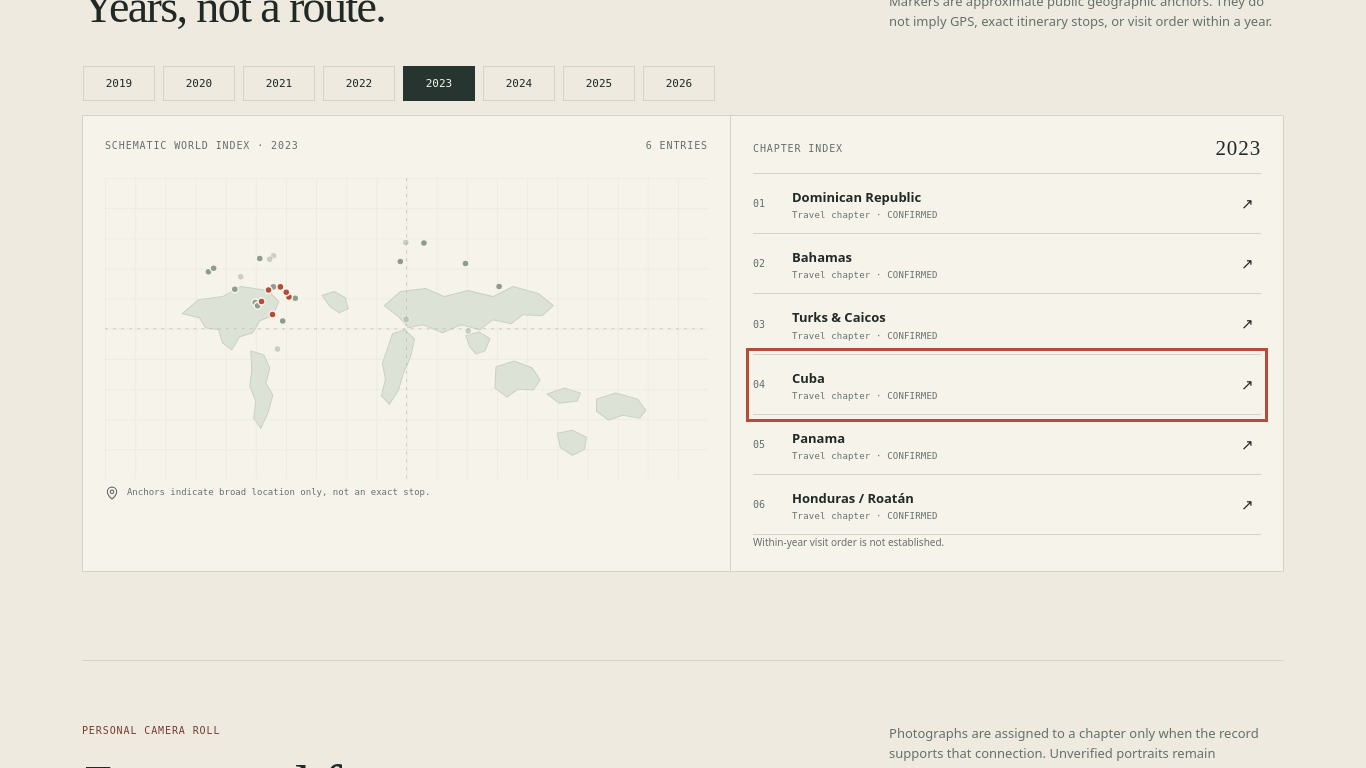
Test: nested photo dialog restores thumbnail focus, then original chapter opener
(page scrolled)
Click the button with test id "v3-chapter-row-cuba-2023": {"x": 808, "y": 378} [753,355,1261,415]
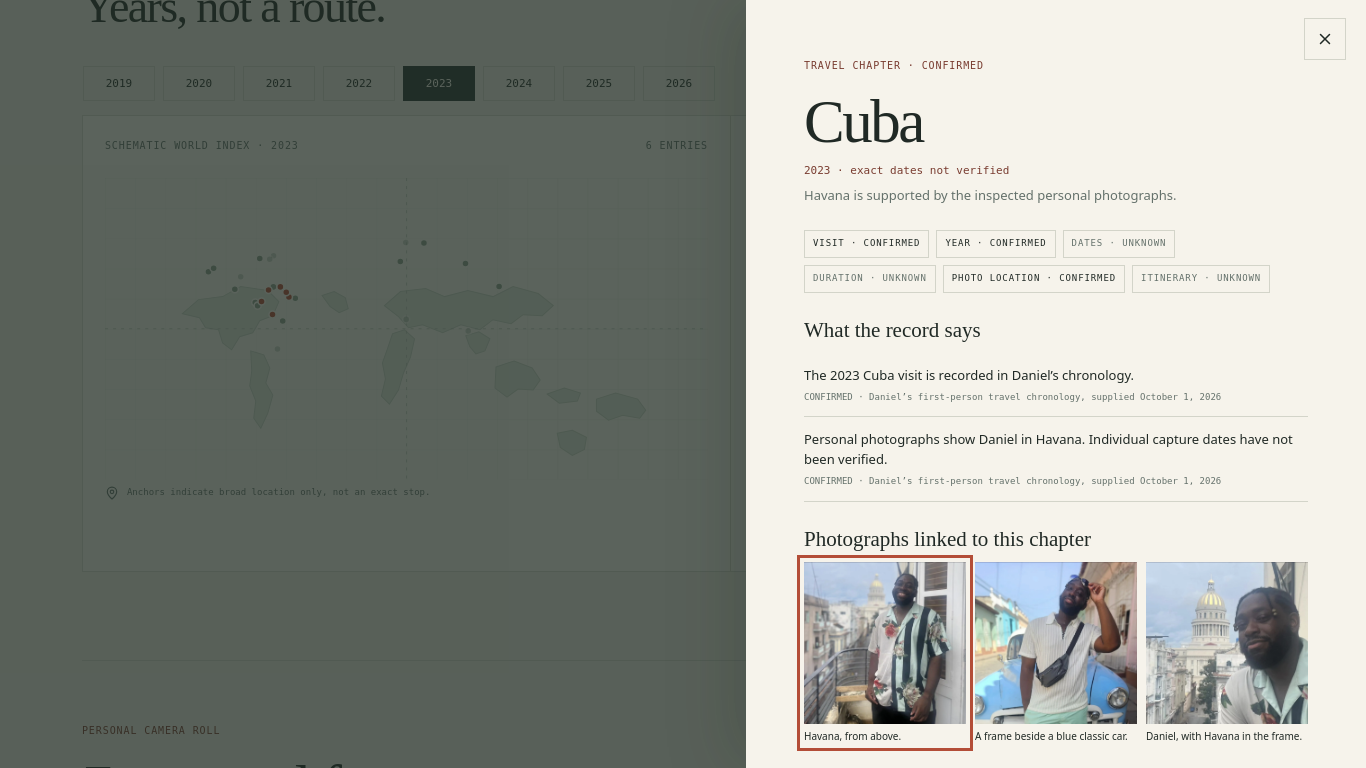
Click the button with test id "v3-linked-photo-cuba-2023-0": {"x": 885, "y": 653} [804,562,966,744]
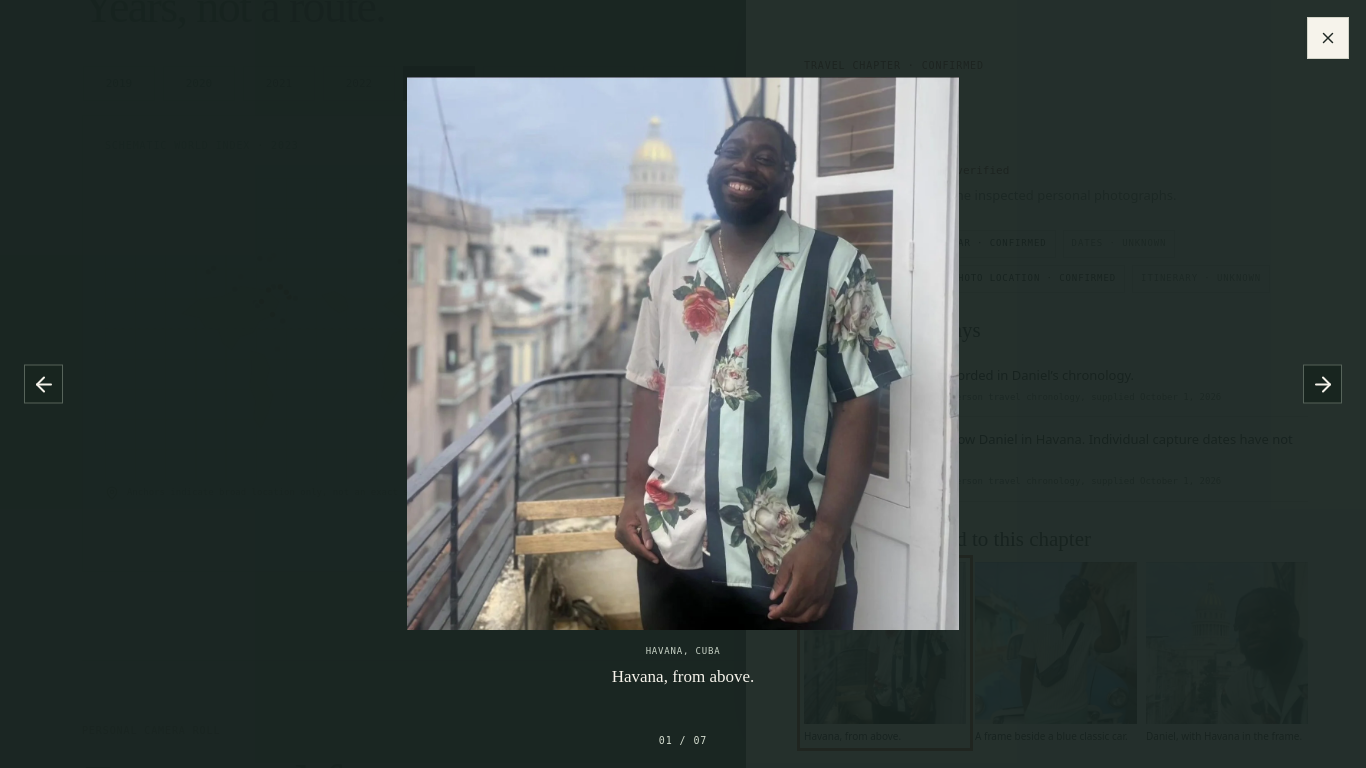
Expected: the element with test id "v3-chapter-overlay" has attribute inert
Click the button with test id "v3-photo-next": {"x": 1322, "y": 384} [1303,364,1342,404]
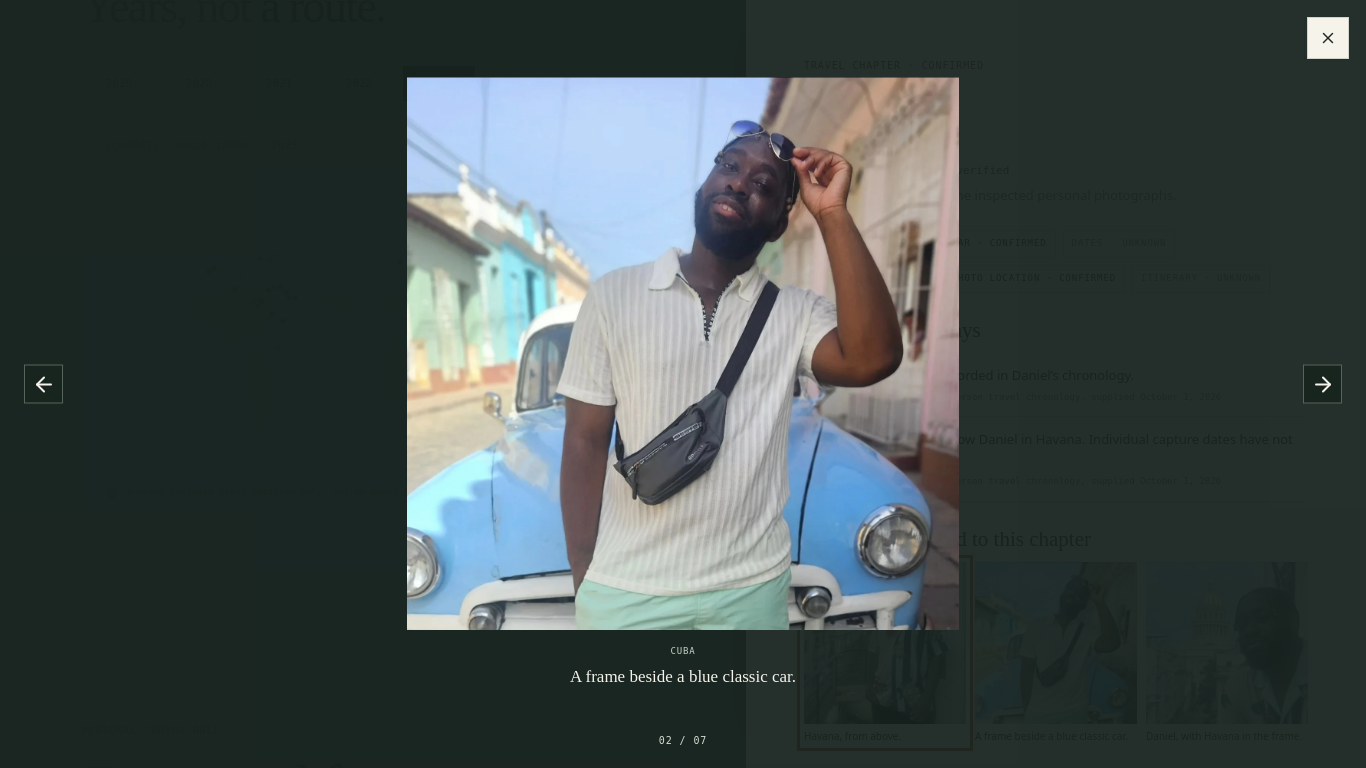
Press ArrowLeft
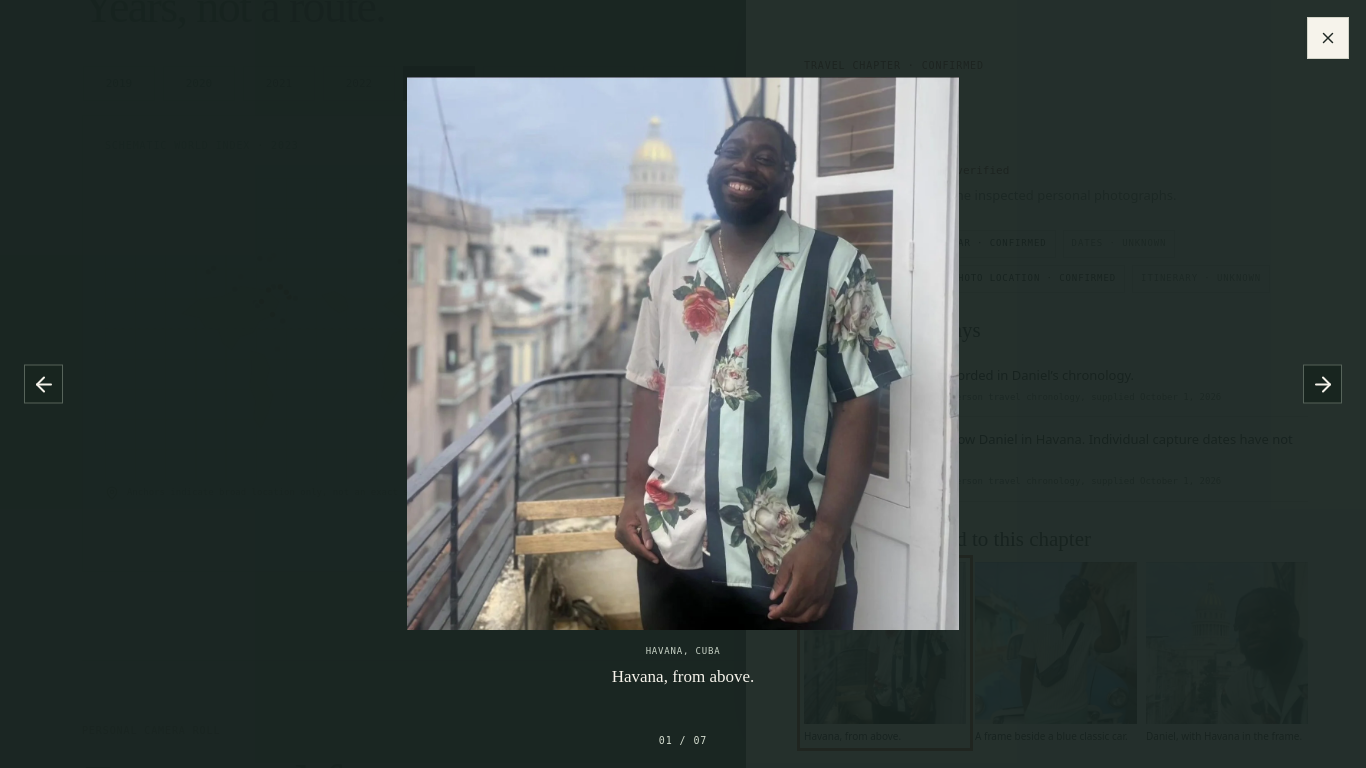
Press Escape
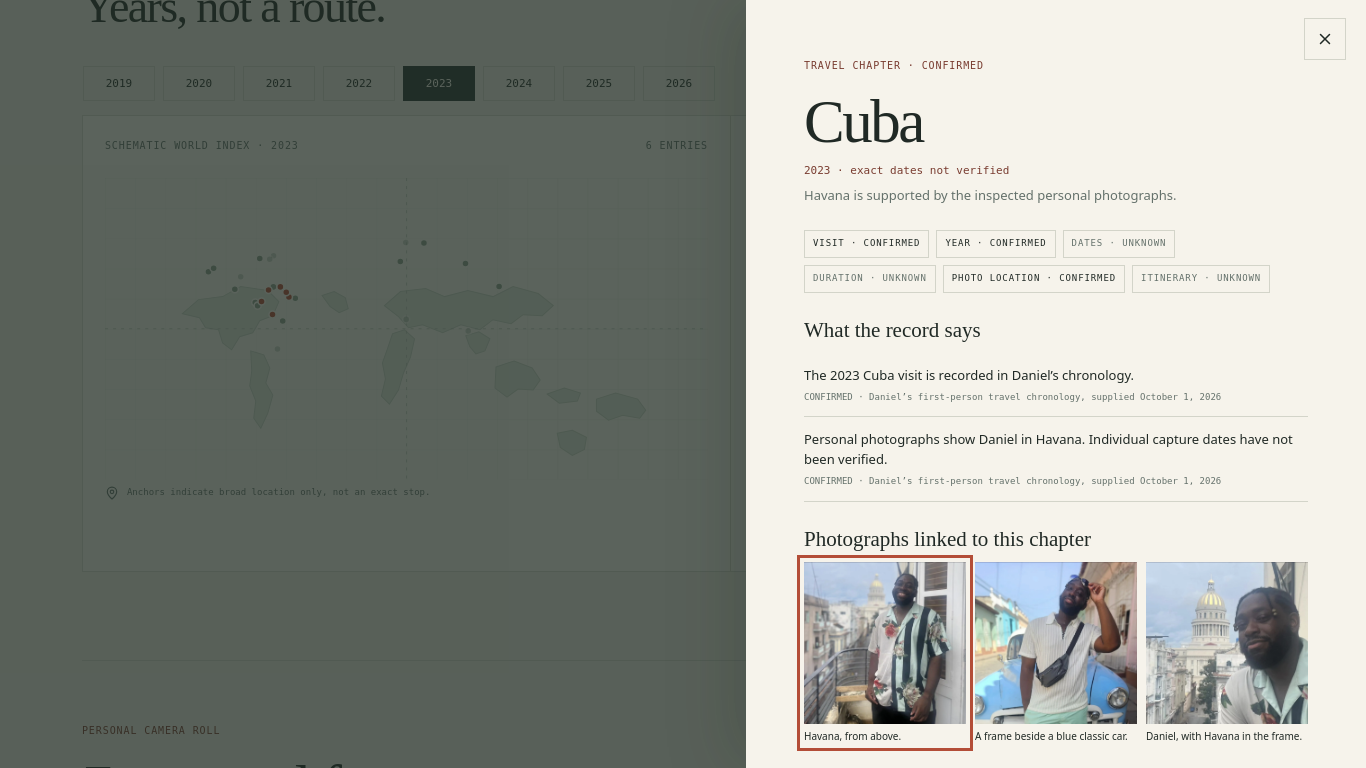
Expected: the dialog shows "Cuba", [804,88,923,154]
Expected: the dialog with test id "v3-photo-viewer" is gone
Press Escape
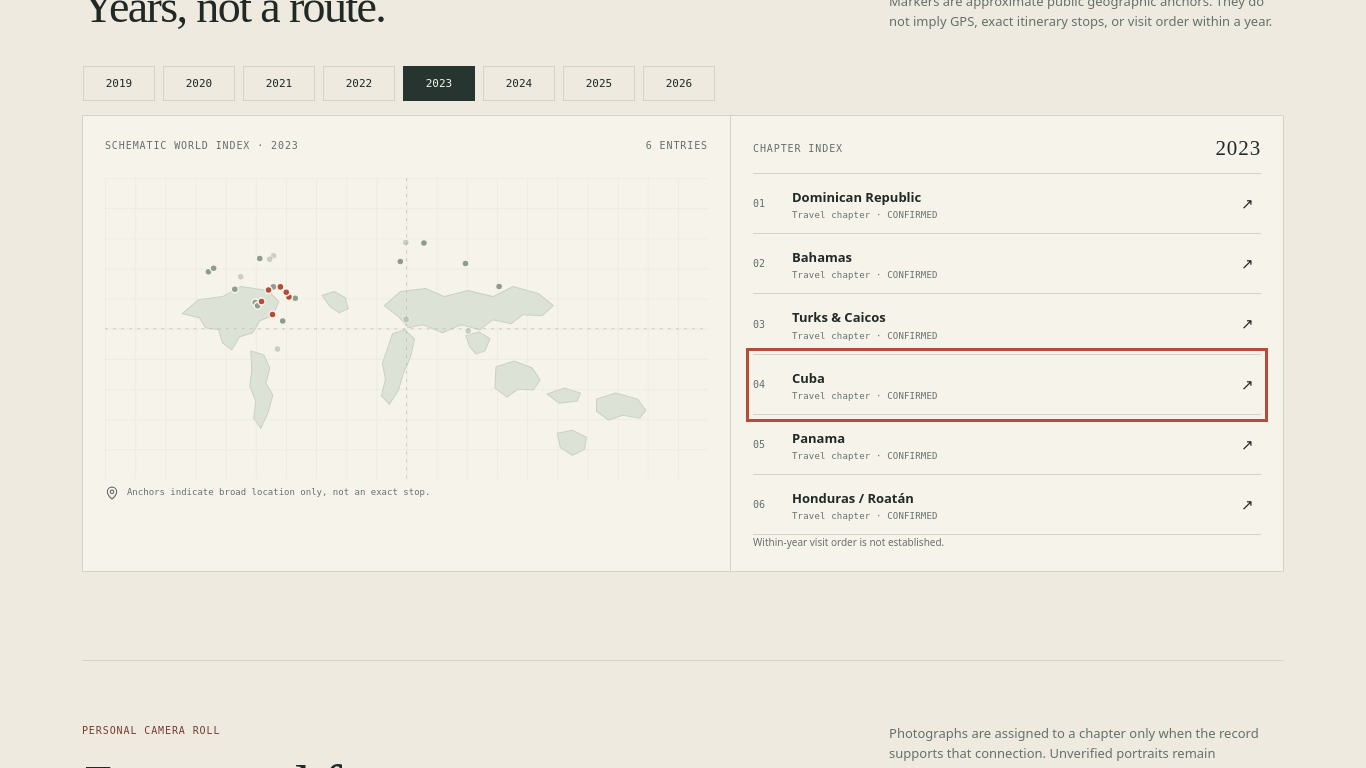
Expected: the dialog is gone
